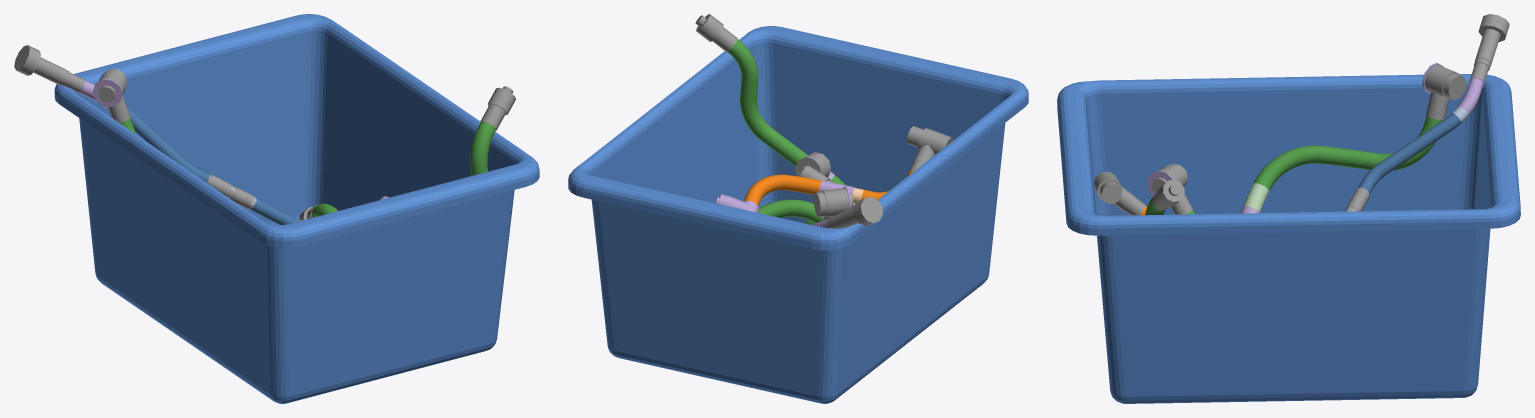
3 views of the same model, side by side, from view 1: azimuth 30°, elevation 25°; view 2: azimuth 150°, elevation 25°; view 3: azimuth 270°, elevation 25° (orthographic). The views are drawn at different scales.
Visible parts, largest first — view 1: bin, tube_5_AB, tube_1_Y, tube_4_Y; view 2: bin, tube_1_Y, tube_0_X, tube_5_AB, tube_4_Y, tube_2_Y, tube_3_X; view 3: bin, tube_4_Y, tube_5_AB, tube_0_X, tube_2_Y, tube_1_Y.
Part boxes in pixels (<box>): bin: <box>54,14,539,403</box>; tube_5_AB: <box>14,45,301,224</box>; tube_1_Y: <box>470,86,515,175</box>; tube_4_Y: <box>92,68,136,134</box>; bin: <box>568,26,1028,403</box>; tube_1_Y: <box>695,14,844,184</box>; tube_0_X: <box>715,126,952,212</box>; tube_5_AB: <box>813,196,882,228</box>; tube_4_Y: <box>804,186,853,224</box>; tube_2_Y: <box>758,199,823,222</box>; tube_3_X: <box>795,152,854,207</box>; bin: <box>1057,74,1520,403</box>; tube_4_Y: <box>1241,62,1466,213</box>; tube_5_AB: <box>1345,14,1509,211</box>; tube_0_X: <box>1093,171,1146,215</box>; tube_2_Y: <box>1147,163,1194,214</box>; tube_1_Y: <box>1145,179,1184,215</box>.
Size of the model in its own units: 0.3564 by 0.239 by 0.4042.
